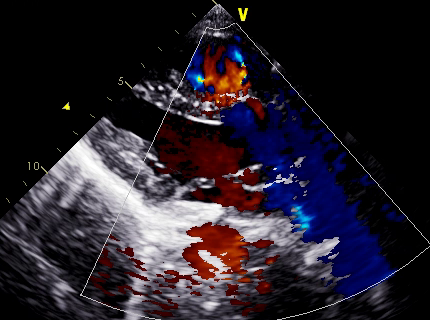AR: (184, 121, 252, 171)
